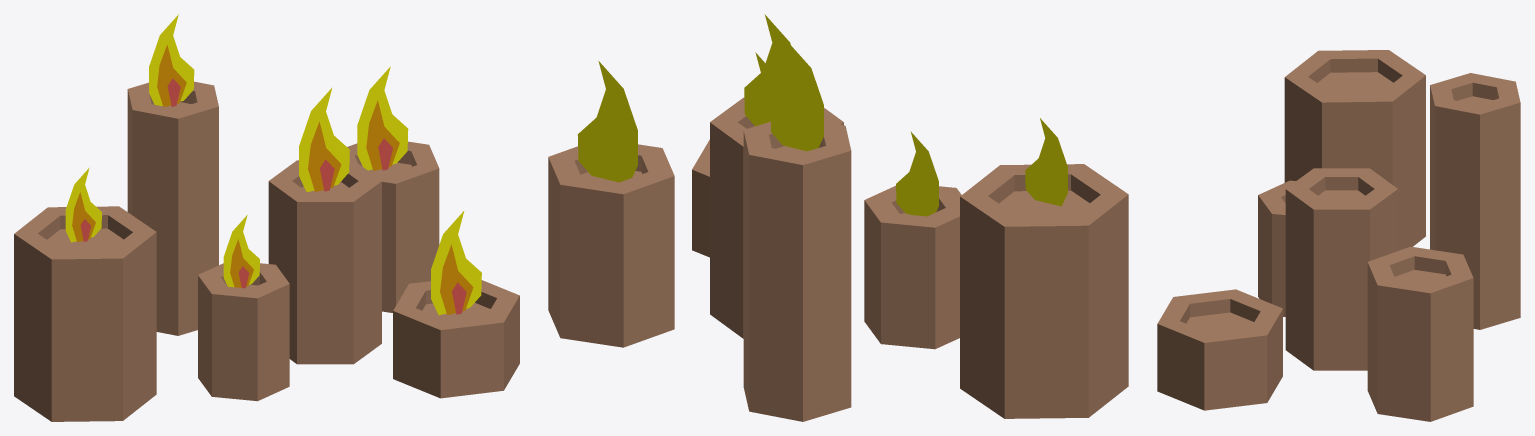
The model's file is gs_candles.fbx.
3 renders of one model, left to right at view 1: azimuth 30°, elevation 25°; view 2: azimuth 150°, elevation 25°; view 3: azimuth 270°, elevation 25°, orthographic. The views are drawn at different scales.
Visible parts, largest first — view 1: candles; view 2: candles; view 3: candles.
Boxes of the visible parts, x1,y1,x2,y2 form: candles: [14, 14, 519, 421]; candles: [548, 14, 1128, 421]; candles: [1157, 50, 1520, 421].
Bounding box in the file's own units: 88.74 × 64.54 × 58.09.
